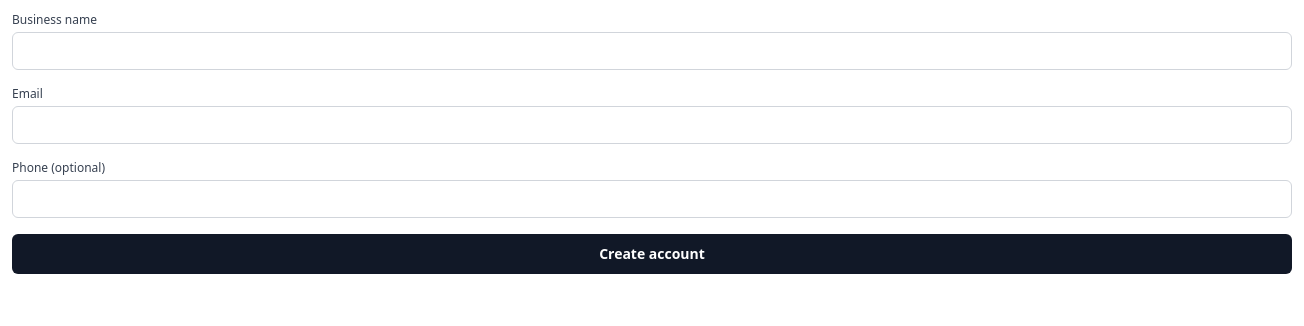
AuthForm › posts the signup fields and shows the result message
Type "Bob Buildings" into the field labelled "Business name" at (652, 51), box [12, 32, 1292, 70]
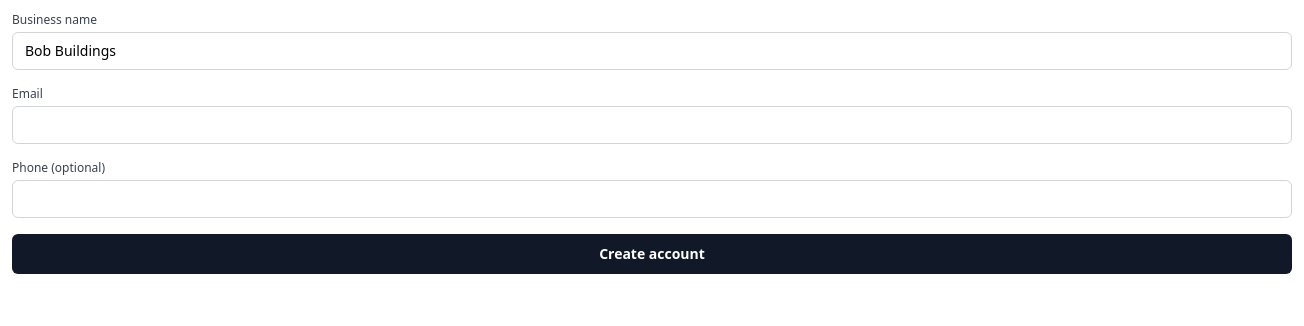
Type "bob@x.com" into the field labelled "Email" at (652, 125), box [12, 106, 1292, 144]
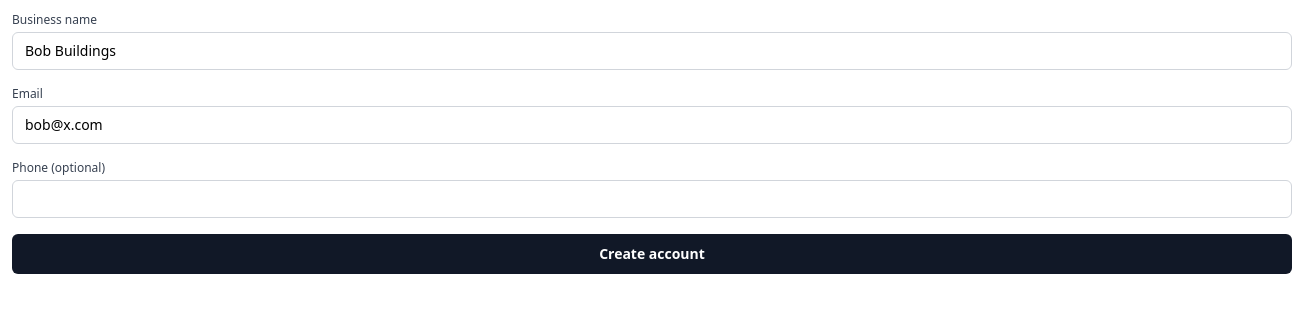
Click the button "Create account" at (652, 254), box [12, 234, 1292, 274]
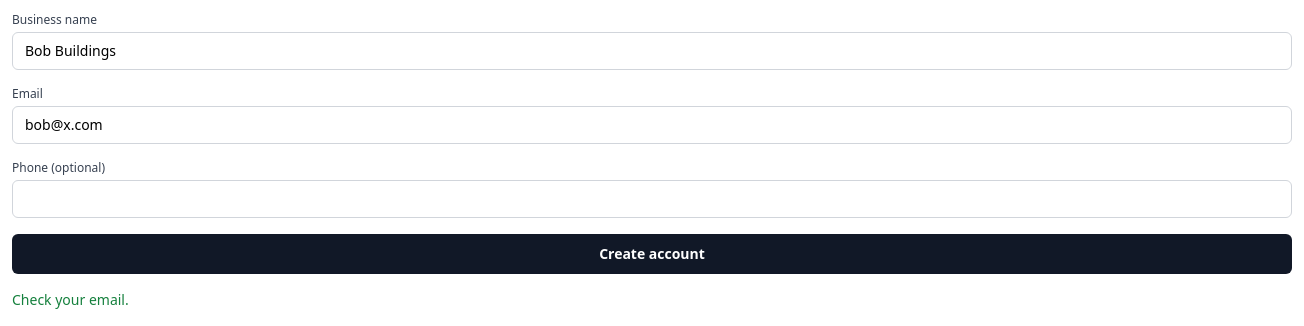
expect the text "Check your email." is shown: met, box [12, 290, 129, 309]
